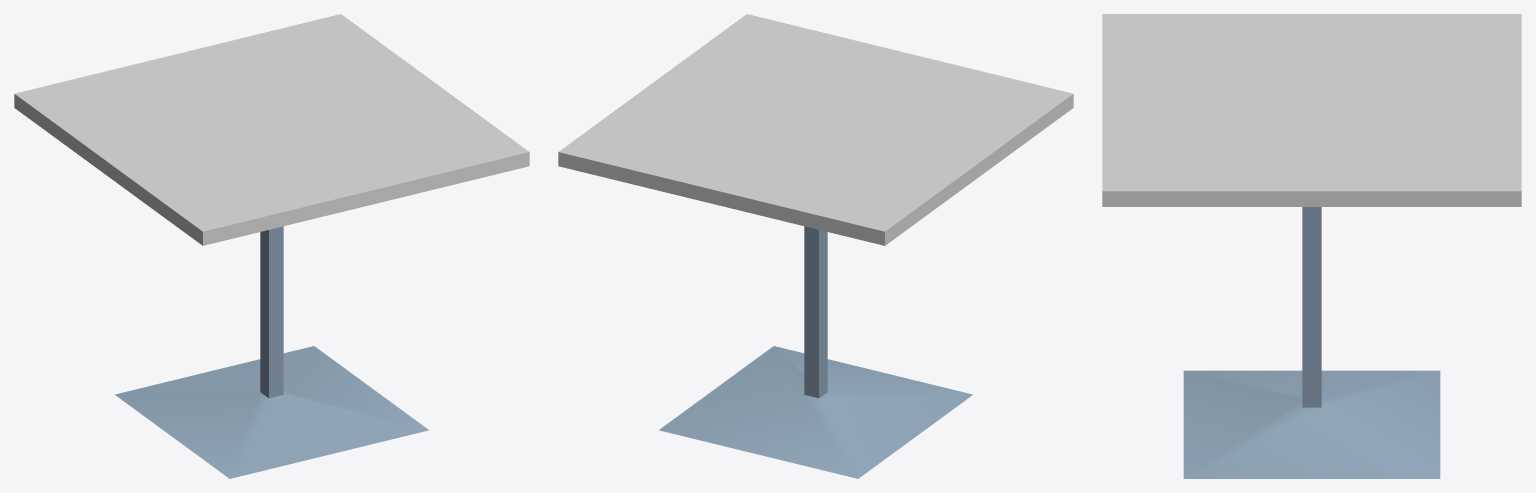
The model's file is cafe_table.dae.
The picture shows the model from 3 angles, left to right: view 1: azimuth 30°, elevation 25°; view 2: azimuth 150°, elevation 25°; view 3: azimuth 270°, elevation 25°; orthographic projection. The views are drawn at different scales.
Visible parts, largest first — view 1: Top_Square.003; view 2: Top_Square.003; view 3: Top_Square.003.
Boxes of the visible parts, bbox=[...] form: Top_Square.003: bbox=[14, 14, 529, 478]; Top_Square.003: bbox=[558, 14, 1073, 478]; Top_Square.003: bbox=[1102, 14, 1521, 478].
Size of the model in its own units: 0.9144 by 0.9144 by 0.7747.
